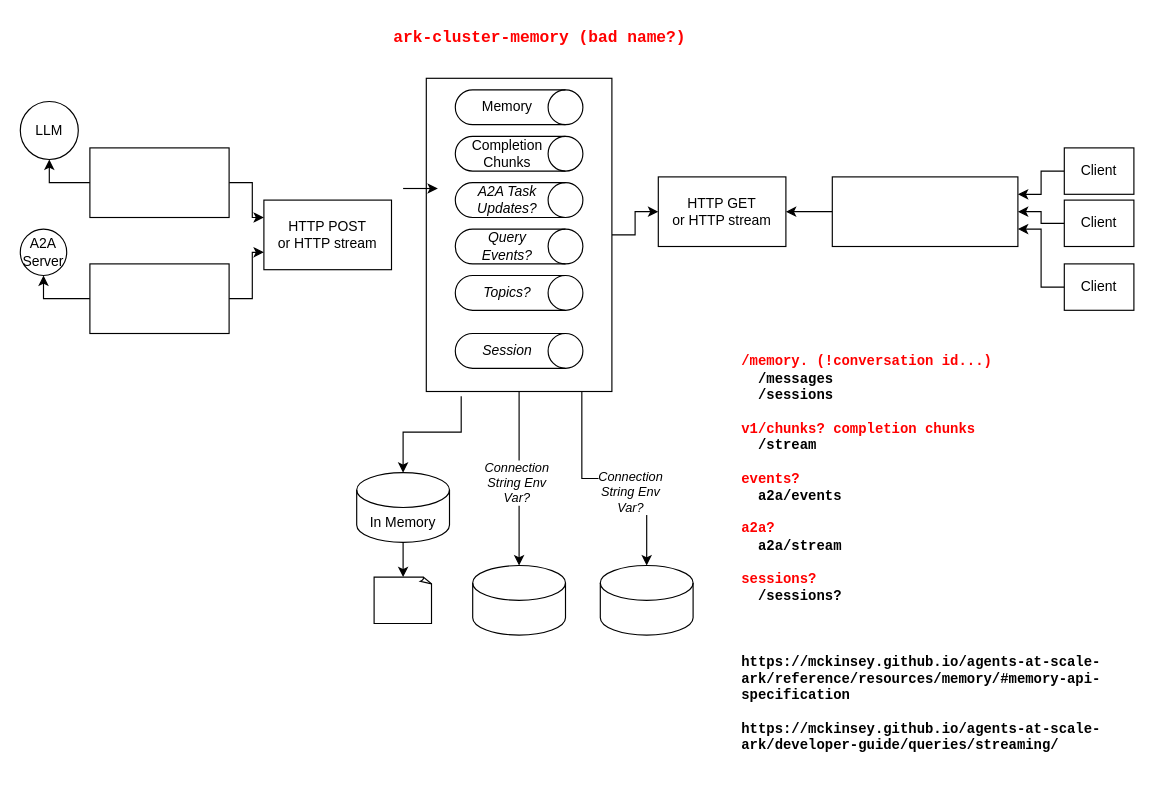
Image size: 1154x807. Some labels were removed from this diagram. Each missing label, with the centre of its shape:
"A2A Task Controller" belongs at pixel 159 298.
"Ark APIs" belongs at pixel 924 211.
"Composer? Kafka?" belongs at pixel 646 599.
"data.json" belongs at pixel 402 600.
"PostgresSQL?" belongs at pixel 519 599.
"Query Controller" belongs at pixel 159 182.
